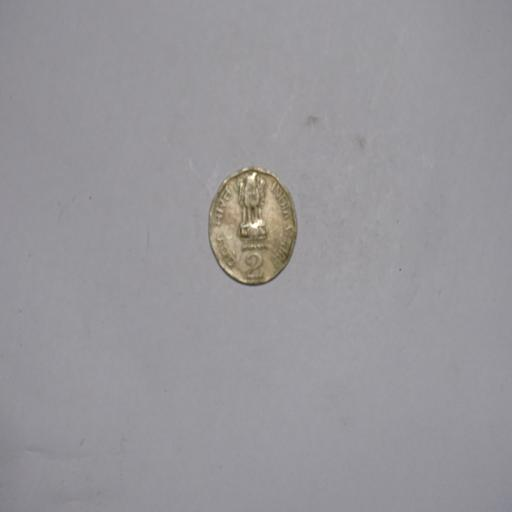rupee2: (205, 164, 299, 288)
